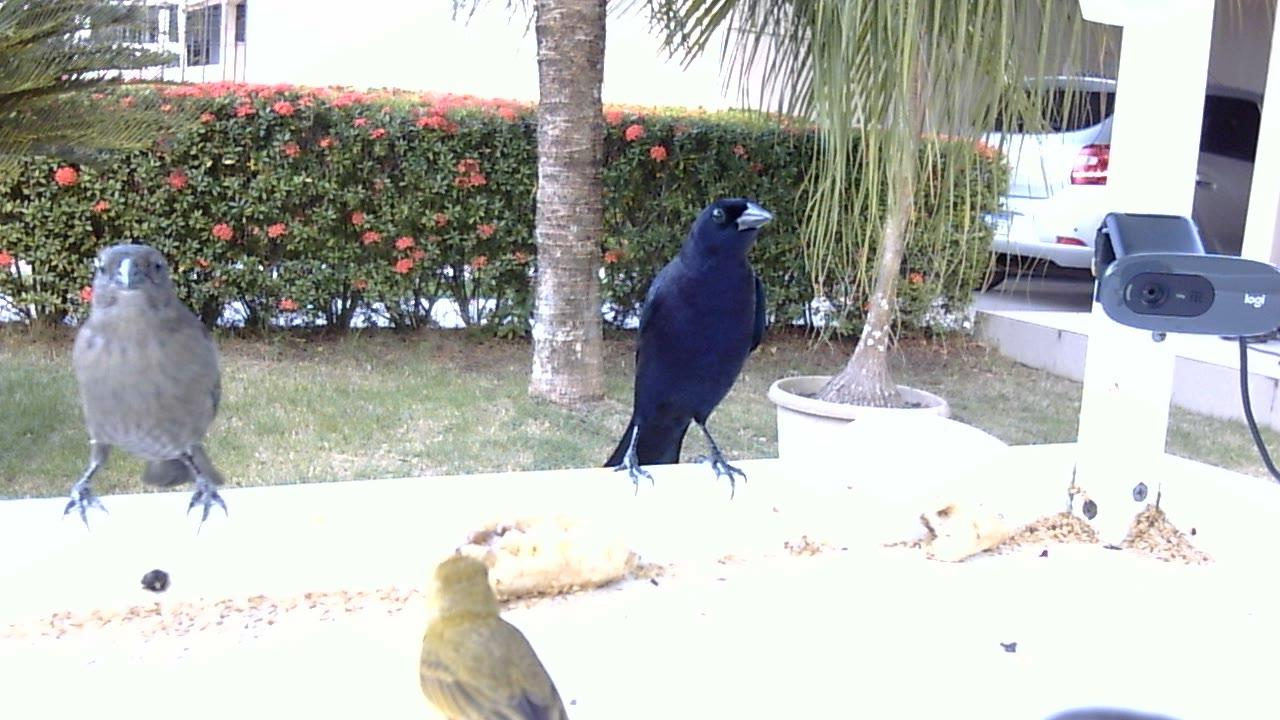canario_do_amazonas: (416, 553, 571, 720)
chupim: (603, 195, 780, 500), (58, 240, 234, 539)
